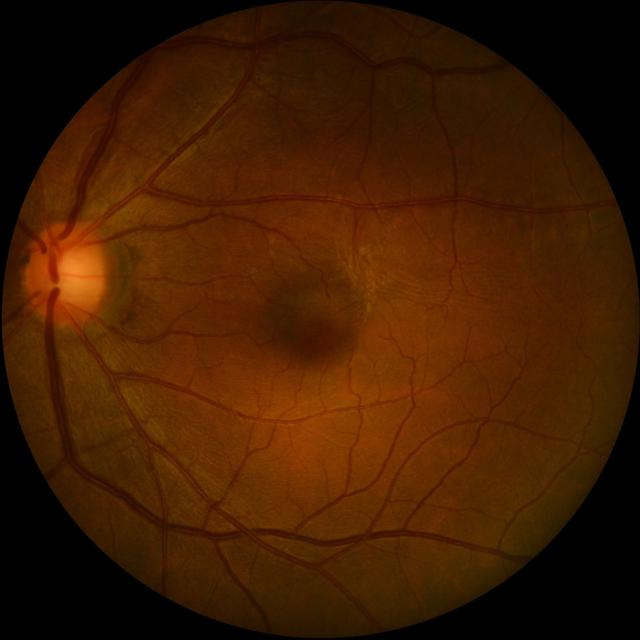OC: (51, 250, 85, 302)
OD: (22, 222, 107, 326)
